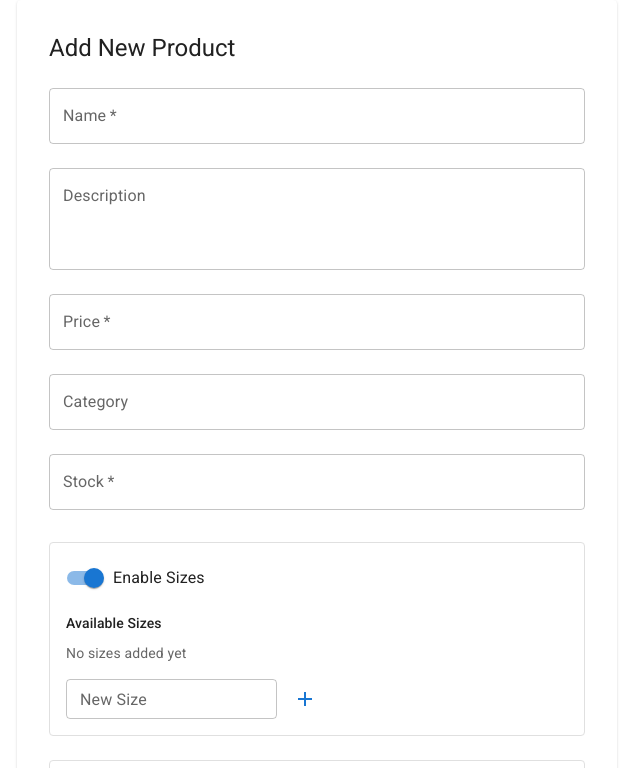
Test case: AdminProductForm Component › Form Functionality › should handle size management
In the field with placeholder "e.g., S, M, L, XL": [172, 699] box [66, 679, 277, 719], type "M"
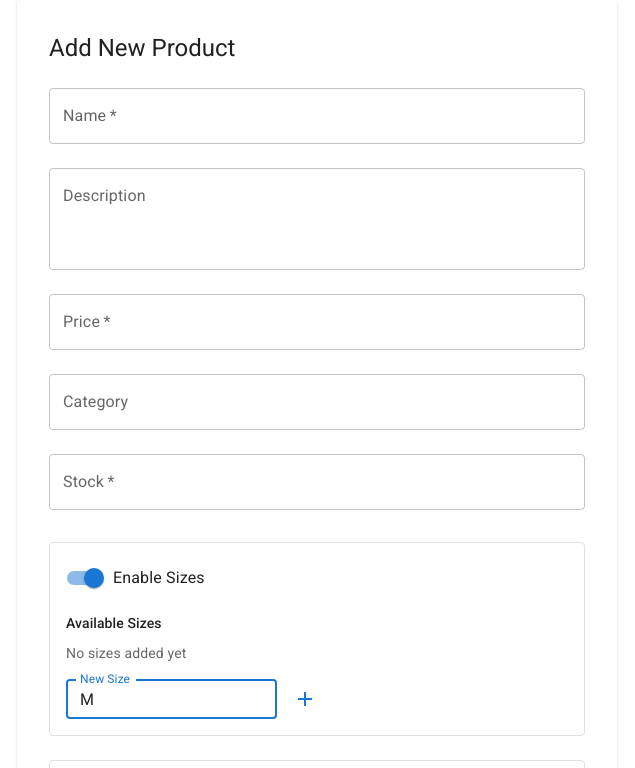
Click the button named "add size": [305, 699] box [285, 679, 325, 719]
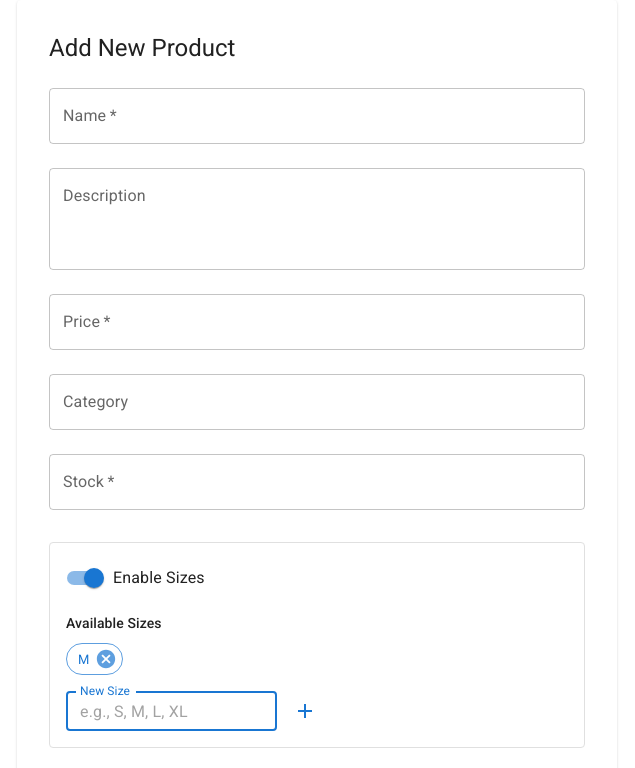
Expected: the text "M" is shown, [78, 652, 90, 667]
